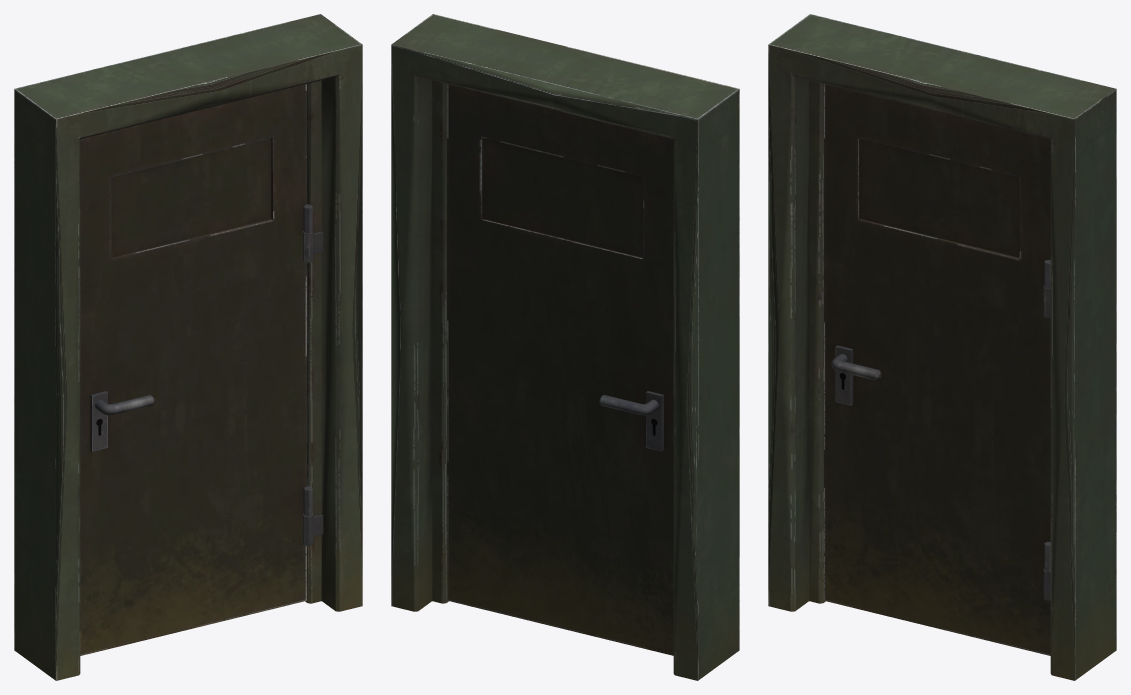
File: door.glb
The picture shows the model from 3 angles, left to right: view 1: azimuth 30°, elevation 25°; view 2: azimuth 150°, elevation 25°; view 3: azimuth 330°, elevation 25°; orthographic projection.
Visible parts, largest first — view 1: door, frame, handle; view 2: door, frame, handle; view 3: door, frame, handle.
Part boxes in pixels (x1,y1,x2,y2): door: [80, 84, 312, 655]; frame: [14, 14, 362, 680]; handle: [95, 395, 154, 415]; door: [447, 84, 673, 655]; frame: [391, 14, 739, 680]; handle: [599, 395, 658, 415]; door: [824, 84, 1050, 655]; frame: [768, 14, 1116, 680]; handle: [831, 354, 881, 380].
Size of the model in its own units: 127 by 222 by 30.01.
1 material, 1 textured.
